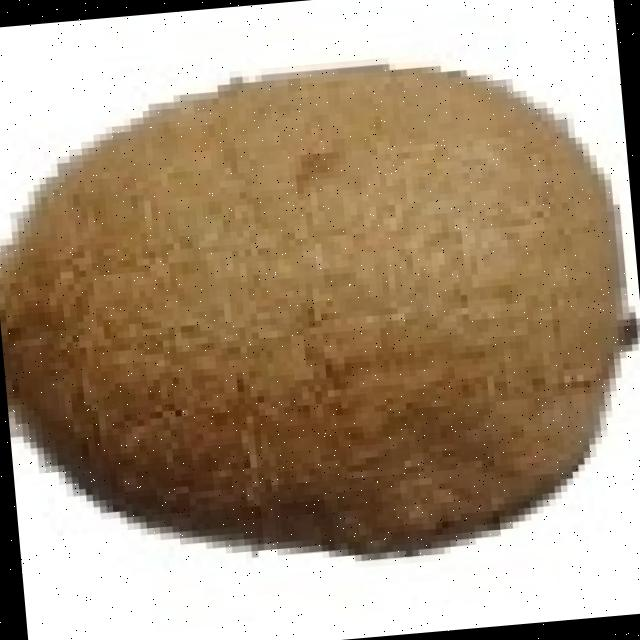kiwi: (6, 60, 629, 540)
